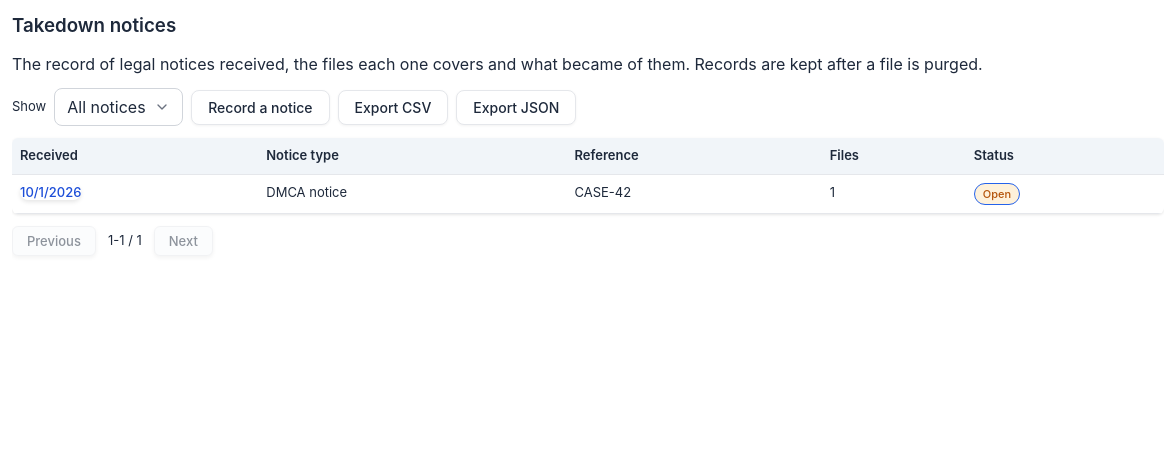
Test: TakedownNoticesPanel › re-reads a notice when it is opened, so a stale list cannot show a released file as open
The width and height of the screenshot is (1164, 476).
Expected: the text "CASE-42" is shown, [566, 174, 822, 214]
Click the button "10/1/2026" at (51, 192), box [20, 184, 81, 200]
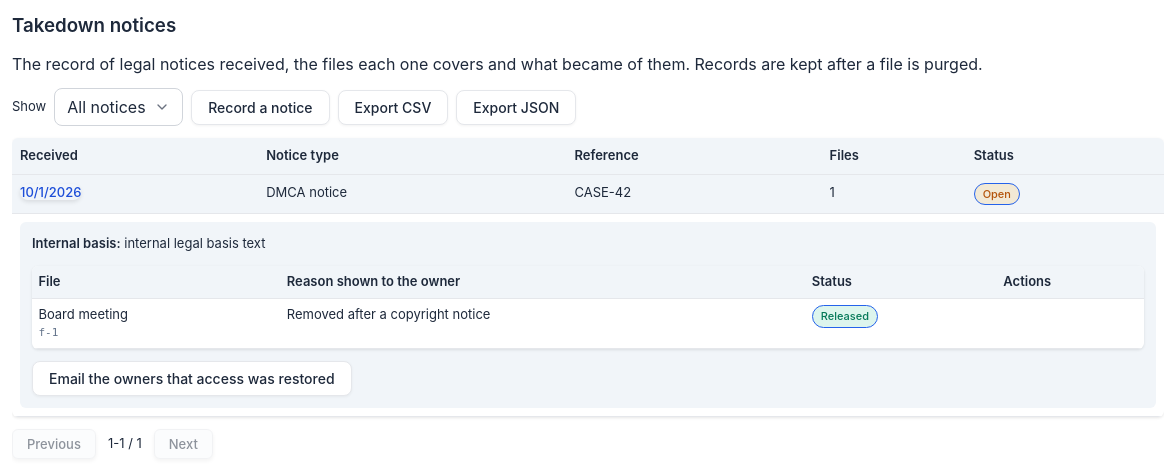
Expected: the text "Released" is shown, [812, 305, 878, 328]
